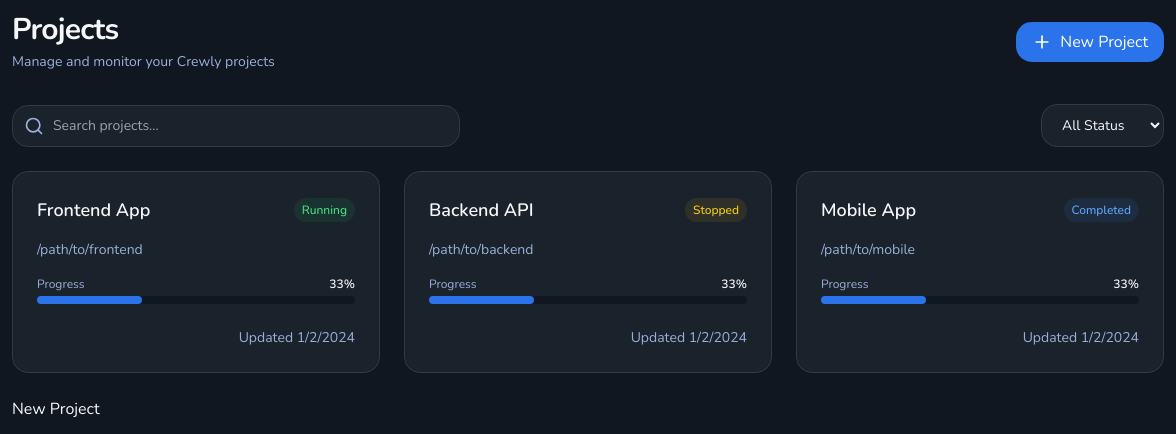
Test: Projects Page › Search and Filter Functionality › should filter projects by status
Expected: the heading "Frontend App" is shown, 37,196 -> 150,224
Select "Active" in the dropdown at (1102,126), box 1041,104 -> 1164,147
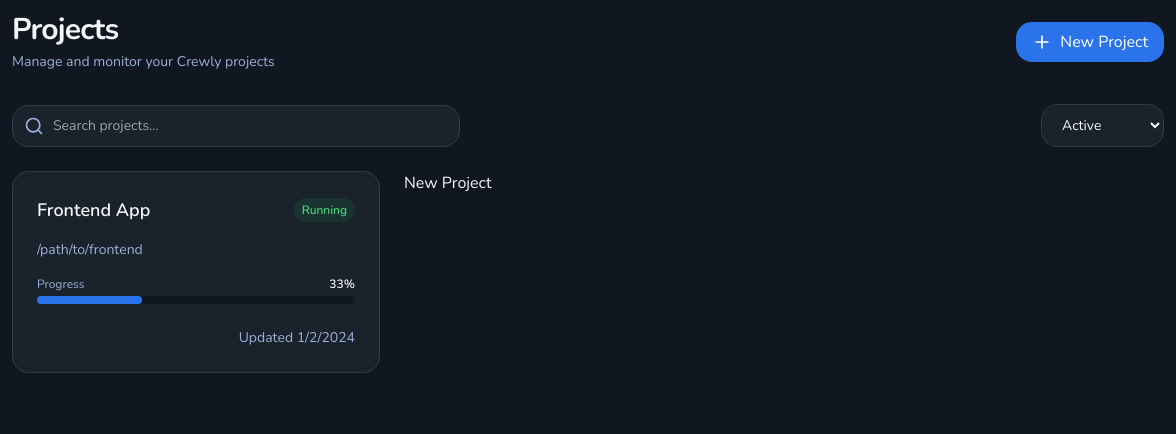
Expected: the heading "Frontend App" is shown, 37,196 -> 150,224
Expected: the heading "Backend API" is gone
Expected: the heading "Mobile App" is gone
